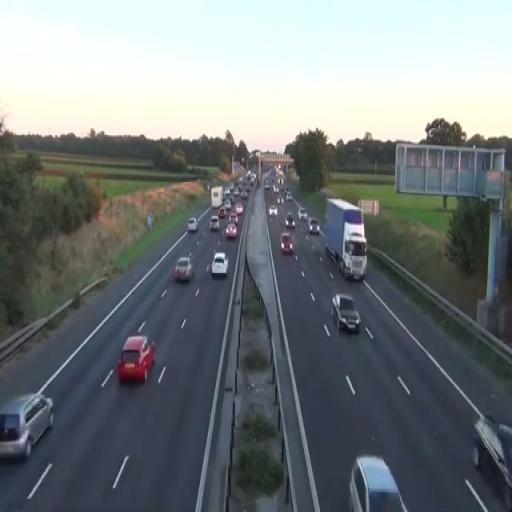Car: (473, 413, 512, 509), (0, 392, 55, 460), (348, 455, 408, 512), (118, 334, 156, 384), (331, 294, 361, 334), (174, 256, 194, 283), (211, 251, 229, 279), (280, 232, 295, 254), (224, 222, 238, 240), (187, 217, 199, 232), (309, 218, 320, 234), (209, 216, 220, 231), (285, 213, 295, 229), (218, 206, 227, 218)
Truck: (324, 198, 368, 283)
